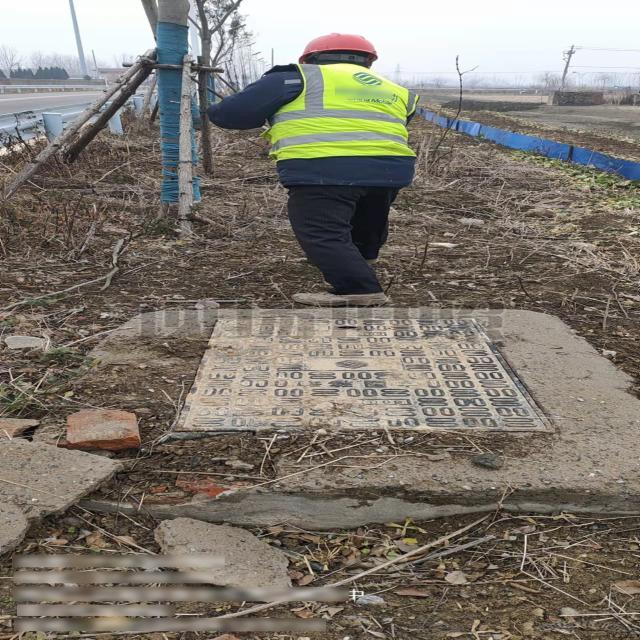Good: (174, 314, 562, 434)
